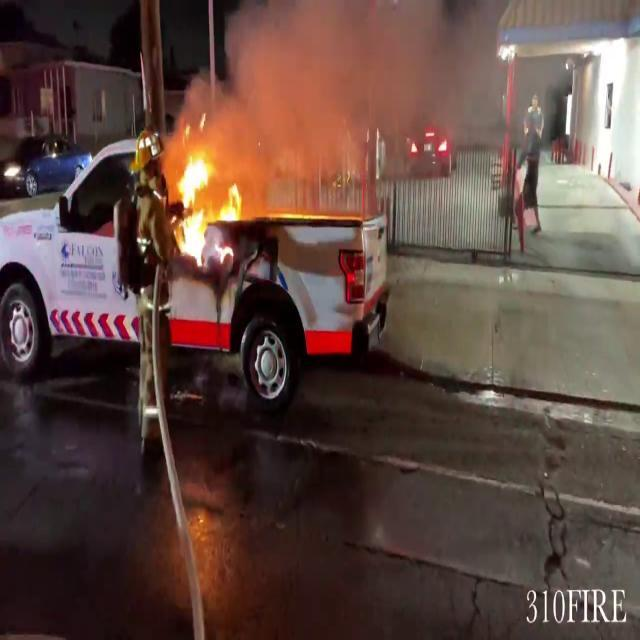Fire: (169, 132, 245, 278)
Smoke: (206, 0, 503, 189)
